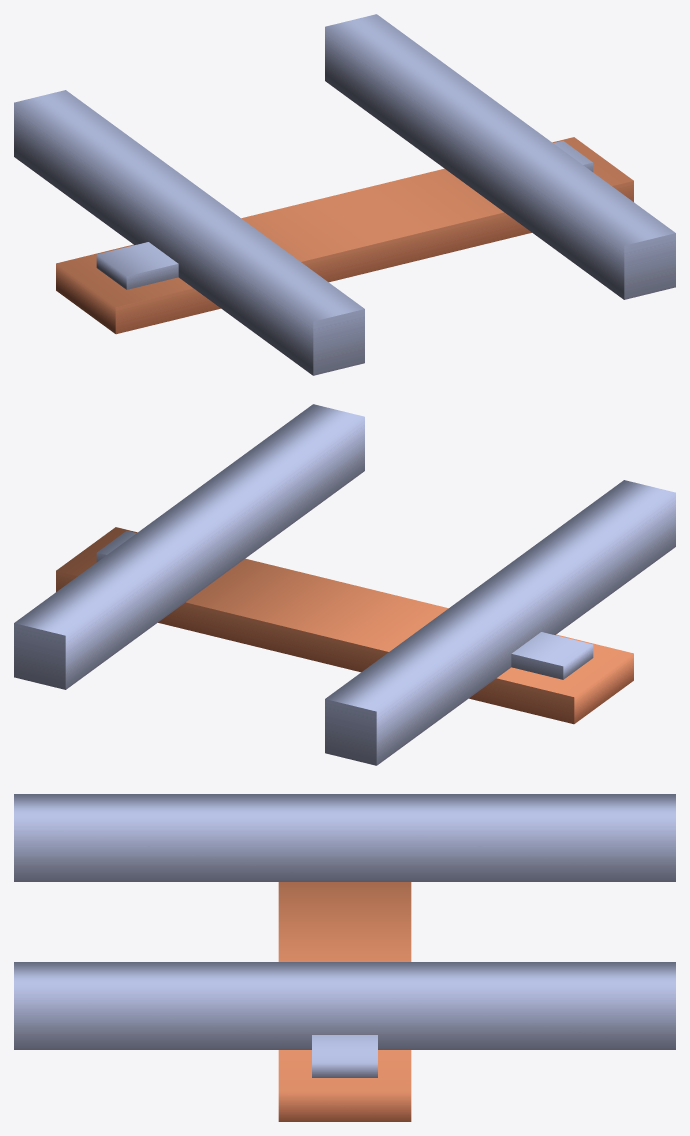
File: kenney-train-track-single-detailed.glb
3 views of the same model, one above another, from view 1: azimuth 30°, elevation 25°; view 2: azimuth 150°, elevation 25°; view 3: azimuth 270°, elevation 25° (orthographic). The views are drawn at different scales.
Parts seen in each view (by area): view 1: track-single-detailed; view 2: track-single-detailed; view 3: track-single-detailed.
Boxes of the visible parts, <box> form: track-single-detailed: <box>14,14,675,375</box>; track-single-detailed: <box>14,404,675,765</box>; track-single-detailed: <box>14,794,675,1121</box>.
Size of the model in its own units: 1 by 0.15 by 1.
1 material, 1 textured.
